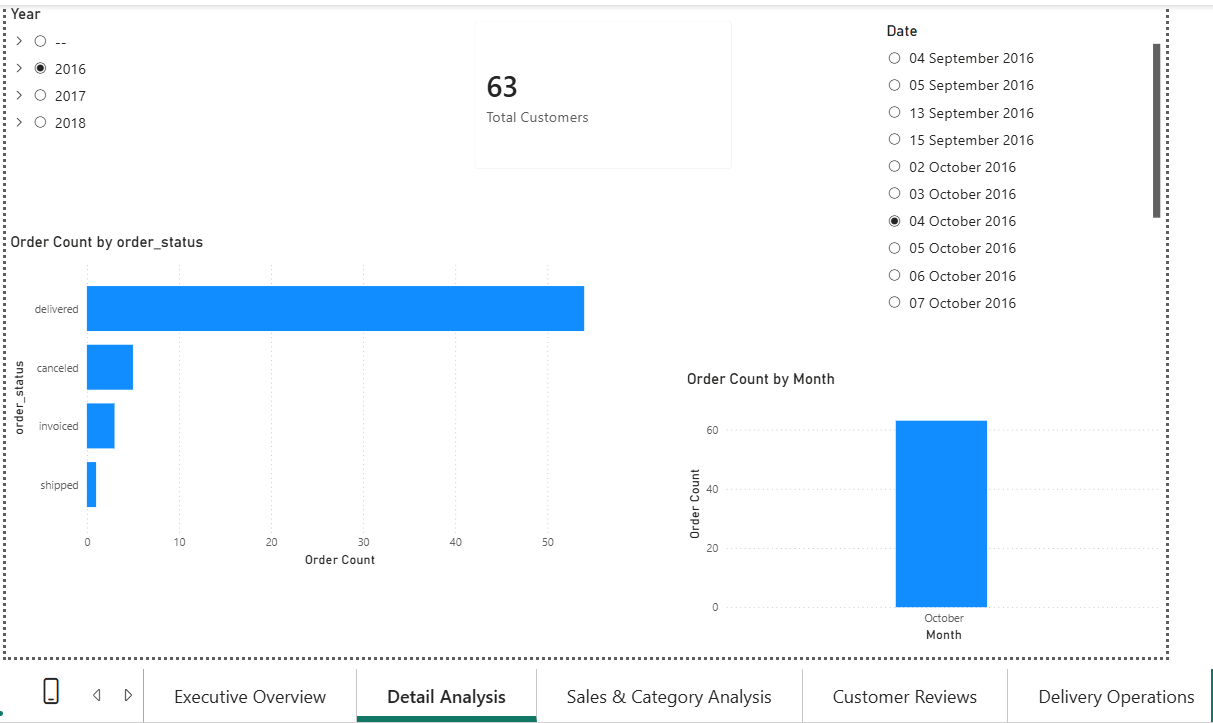

This screenshot's page, from the dashboard's own definition file:
{"tool":"powerbi","page":{"name":"Detail Analysis","canvas":[1280,720],"ordinal":1},"visuals":[{"type":"listSlicer","fields":{"Values":["cleaned_olist_orders_dataset.Date.Variation.Date Hierarchy.Year"]},"box":[10,0,312.9,324.3],"z":0},{"type":"clusteredBarChart","fields":{"Category":["cleaned_olist_orders_dataset.order_status"],"Y":["Calendar.Order Count"]},"box":[371.4,0,388.6,227.1],"z":1000},{"type":"clusteredColumnChart","fields":{"Category":["Calendar.Month"],"Y":["Calendar.Order Count"]},"box":[542.9,267.1,322.9,261.4],"z":2000},{"type":"cardVisual","fields":{"Data":["Calendar.Total Customers"]},"box":[0,342.9,201.4,168.6],"z":3000},{"type":"listSlicer","fields":{"Values":["Calendar.Date.Variation.Date Hierarchy.Year","Calendar.Date.Variation.Date Hierarchy.Quarter","Calendar.Date.Variation.Date Hierarchy.Month","Calendar.Date.Variation.Date Hierarchy.Day"]},"box":[217.1,398.6,274.3,171.4],"z":3001}]}

Visuals, with their boxes on the page's 1280x720 design canvas (x1, y1, x2, y2). These are canvas units, not pixel positions in the 1213x723 screenshot, which may show the page scaled, cropped or inside an application window:
listSlicer - cleaned_olist_orders_dataset.Date.Variation.Date Hierarchy.Year: (10,0,323,324)
clusteredBarChart - cleaned_olist_orders_dataset.order_status x Calendar.Order Count: (371,0,760,227)
clusteredColumnChart - Calendar.Month x Calendar.Order Count: (543,267,866,528)
cardVisual - Calendar.Total Customers: (0,343,201,512)
listSlicer - Calendar.Date.Variation.Date Hierarchy.Year x Calendar.Date.Variation.Date Hierarchy.Quarter: (217,399,491,570)
